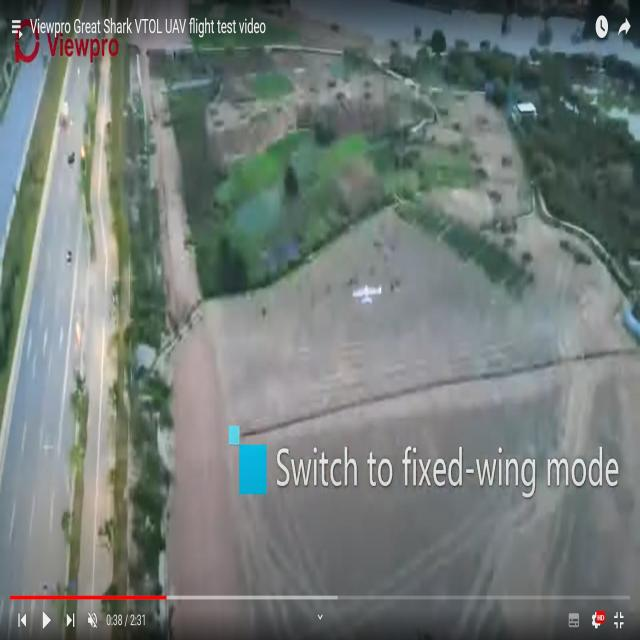iha: (352, 283, 382, 304)
